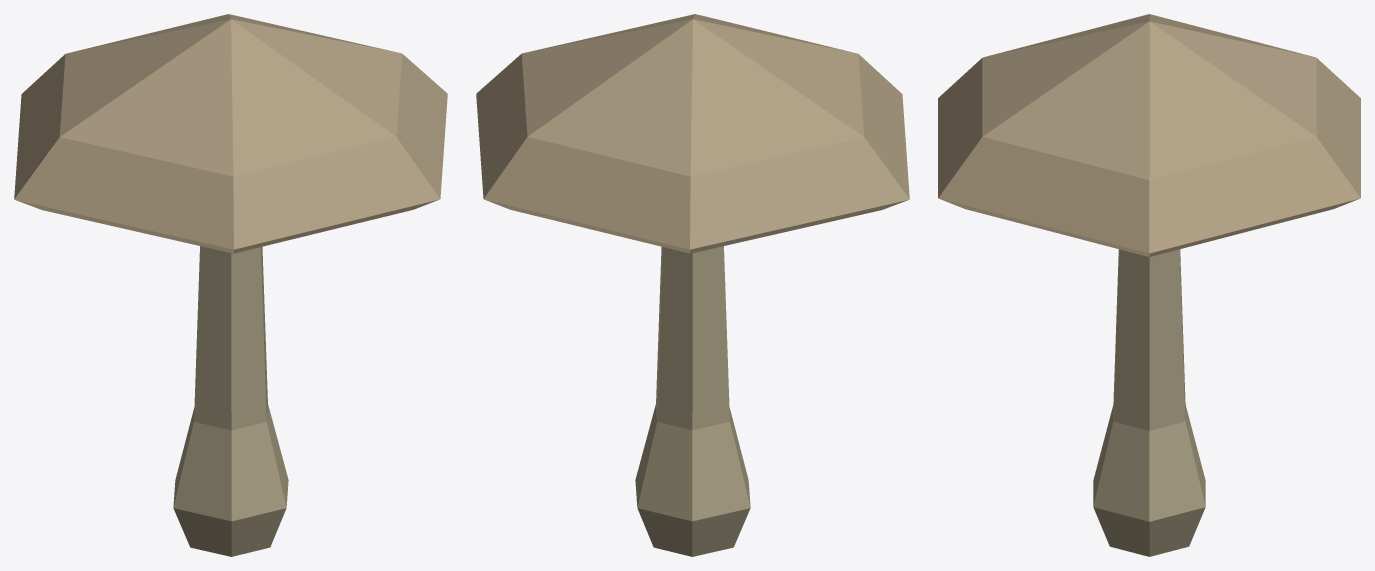
File: Mushroom-A01.fbx
3 renders of one model, left to right at view 1: azimuth 30°, elevation 25°; view 2: azimuth 150°, elevation 25°; view 3: azimuth 270°, elevation 25°, orthographic.
Visible parts, largest first — view 1: Mushroom-A01; view 2: Mushroom-A01; view 3: Mushroom-A01.
Boxes of the visible parts, x1,y1,x2,y2 form: Mushroom-A01: (14,14,447,556); Mushroom-A01: (476,14,909,556); Mushroom-A01: (938,14,1360,556).
Bounding box in the file's own units: 55.61 × 63.53 × 47.19.
